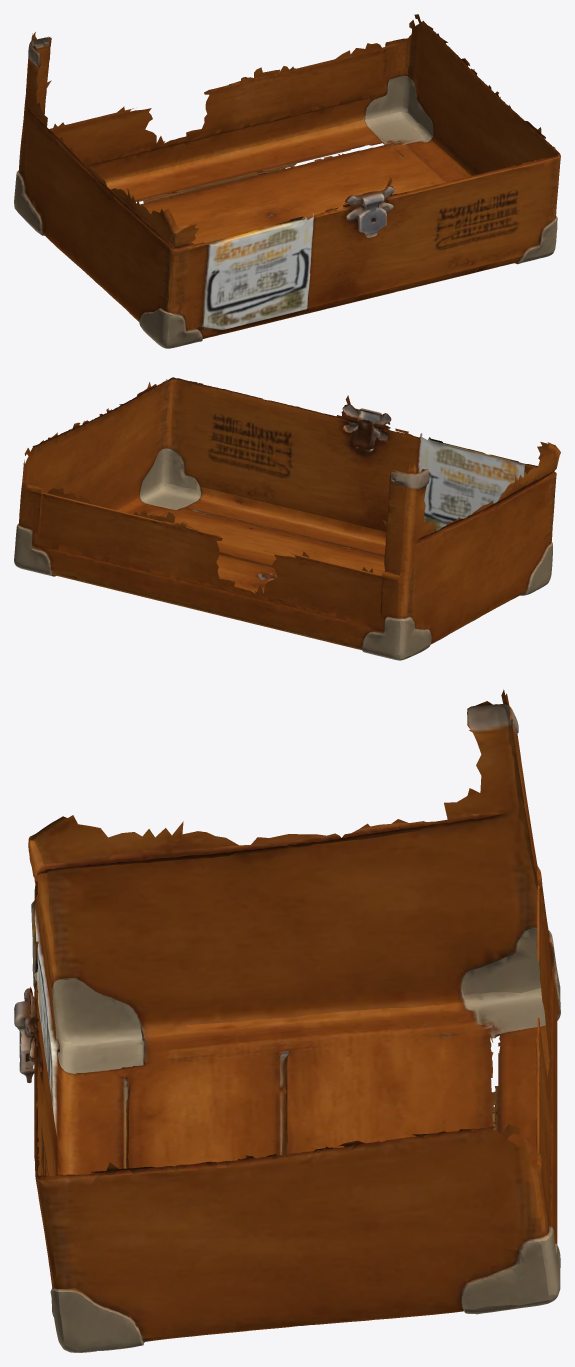
The picture shows the model from 3 angles, top to bottom: view 1: azimuth 30°, elevation 25°; view 2: azimuth 150°, elevation 25°; view 3: azimuth 270°, elevation 25°; orthographic projection. The views are drawn at different scales.
Parts seen in each view (by area): view 1: world; view 2: world; view 3: world.
Boxes of the visible parts, bbox=[...] form: world: bbox=[14, 14, 560, 348]; world: bbox=[14, 377, 560, 660]; world: bbox=[14, 689, 560, 1352].
Size of the model in its own units: 0.23 by 0.1226 by 0.1693.
Materials: 1 (1 with a texture image).
